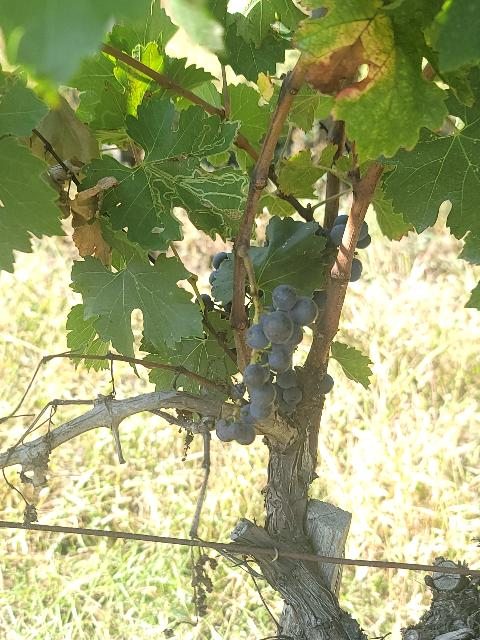grapes: (215, 285, 319, 445)
